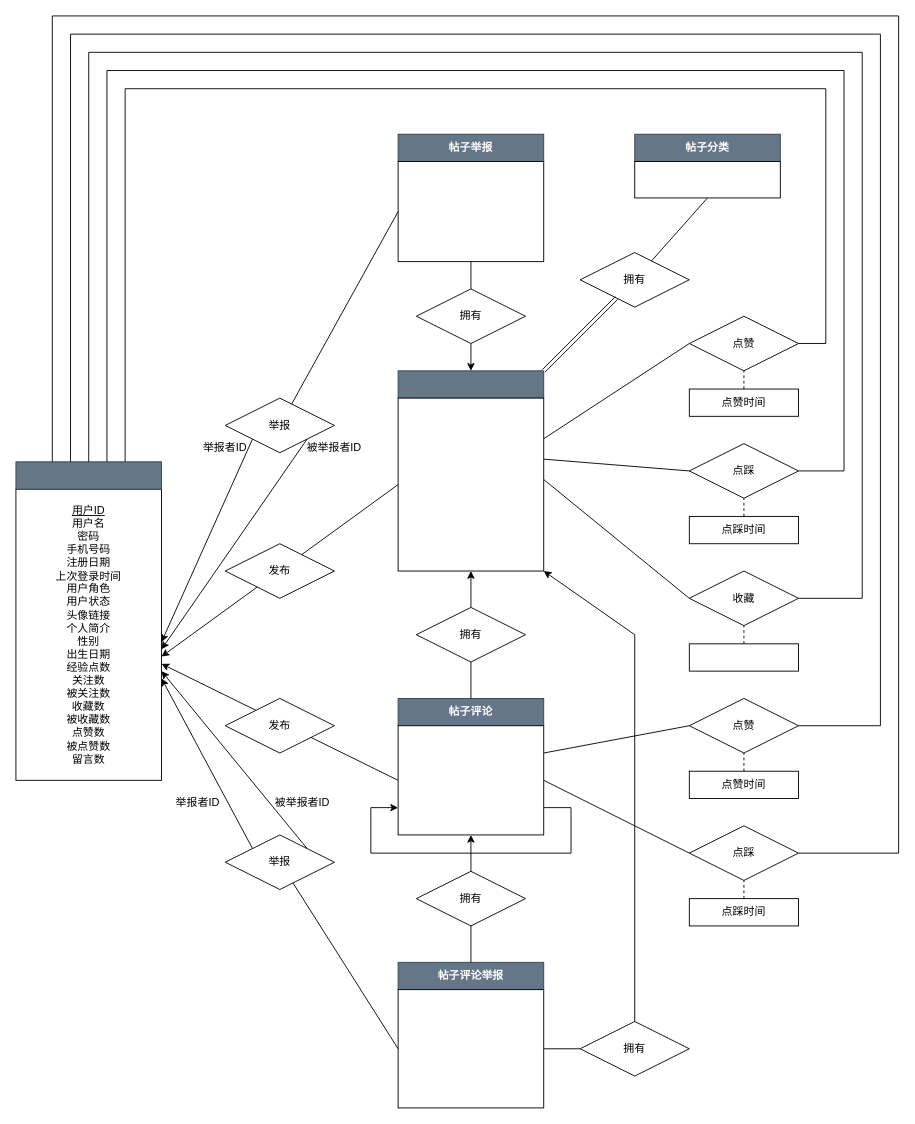
Image size: 915x1124. Some labels were removed from this diagram. Each missing label, with the centre of its shape:
帖子: the point at 470,384
帖子ID 发贴用户ID 帖子分类ID 标题 内容 创建时间 更新时间 是否置顶 点赞数 点 踩数 收藏数 评论数 图片链接: the point at 470,484
帖子举报ID 举报者ID 被举报者ID 被举报帖子ID 举报原因 举报时间 处理状态: the point at 470,211
帖子分类ID 帖子分类: the point at 707,179
帖子评论ID 帖子ID 用户ID 父评论ID 评论内容 评论时间 点赞数 点踩数: the point at 470,780
帖子评论举报ID 举报者ID 被举报者ID 被举报评论所属帖子ID 被举报评论ID 举报原因 举报时间 处理状态: the point at 470,1048
收藏时间: the point at 743,657
用户: the point at 88,475
